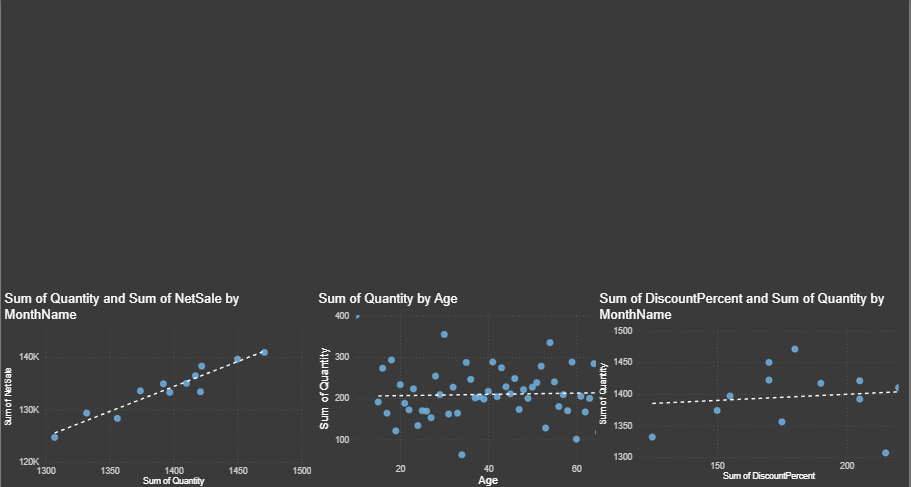

What the dashboard file says about the page in this screenshot:
{"tool":"powerbi","page":{"name":"Page 3","canvas":[1280,720],"ordinal":2},"visuals":[{"type":"scatterChart","fields":{"Y":["Sum(Sales.NetSale)"],"Category":["Dates.MonthName"],"X":["Sum(Sales.Quantity)"]},"box":[0,414.1,442.3,280.3],"z":0},{"type":"scatterChart","fields":{"X":["Customers.Age"],"Y":["Sum(Sales.Quantity)"]},"box":[442.3,414.1,442.3,280.3],"z":1},{"type":"scatterChart","fields":{"X":["Sum(Sales.DiscountPercent)"],"Y":["Sum(Sales.Quantity)"],"Category":["Dates.MonthName"]},"box":[838,414.1,442.3,273.2],"z":2}]}

Visuals, with their boxes on the page's 1280x720 design canvas (x1, y1, x2, y2). These are canvas units, not pixel positions in the 911x487 screenshot, which may show the page scaled, cropped or inside an application window:
scatterChart - Sum(Sales.NetSale) x Dates.MonthName: l=0, t=414, r=442, b=694
scatterChart - Customers.Age x Sum(Sales.Quantity): l=442, t=414, r=885, b=694
scatterChart - Sum(Sales.DiscountPercent) x Sum(Sales.Quantity): l=838, t=414, r=1280, b=687
